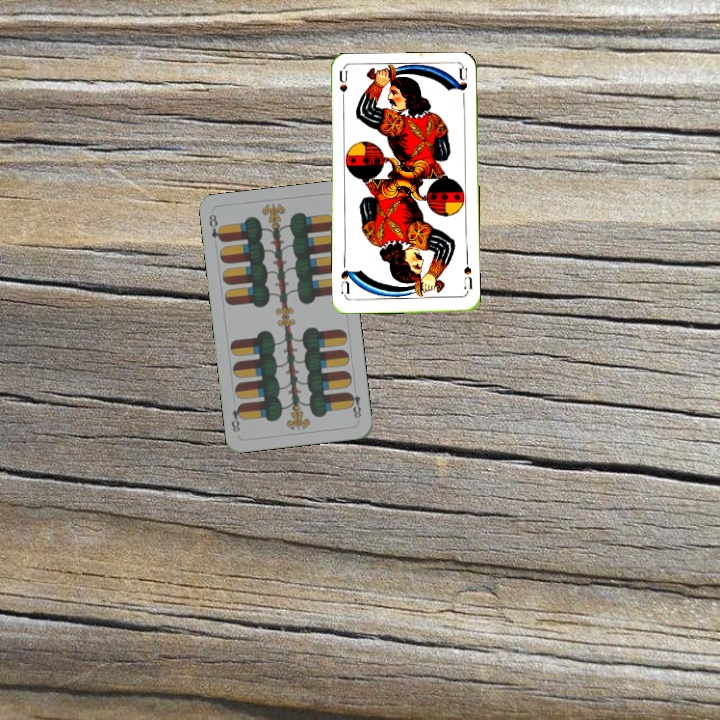E8: (205, 210, 225, 244), (345, 388, 364, 421)
SU: (335, 68, 350, 109), (460, 255, 475, 291)
